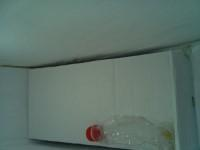bottle: (84, 115, 177, 149)
